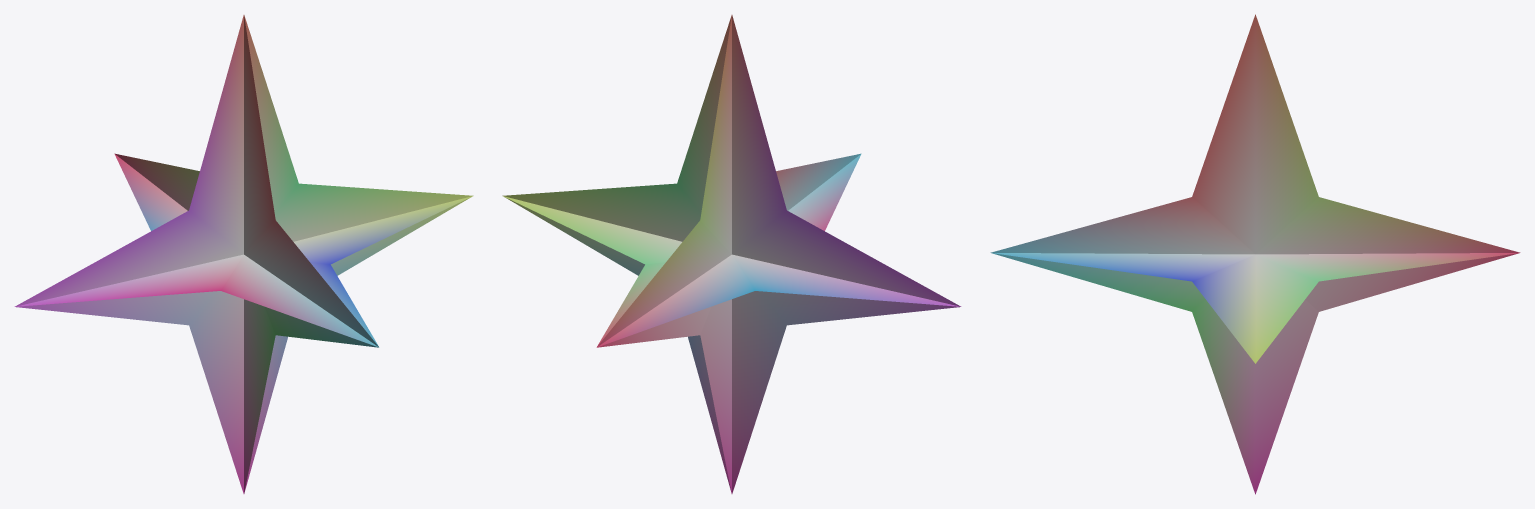
Rendered from space-stars-star_v7.glb.
3 renders of one model, left to right at view 1: azimuth 30°, elevation 25°; view 2: azimuth 150°, elevation 25°; view 3: azimuth 270°, elevation 25°, orthographic.
Visible parts, largest first — view 1: Star_v7; view 2: Star_v7; view 3: Star_v7.
Part boxes in pixels (bbox=[...]): Star_v7: bbox=[14, 15, 473, 493]; Star_v7: bbox=[502, 15, 961, 493]; Star_v7: bbox=[990, 14, 1520, 494].
Size of the model in its own units: 0.5 by 0.5 by 0.5.
